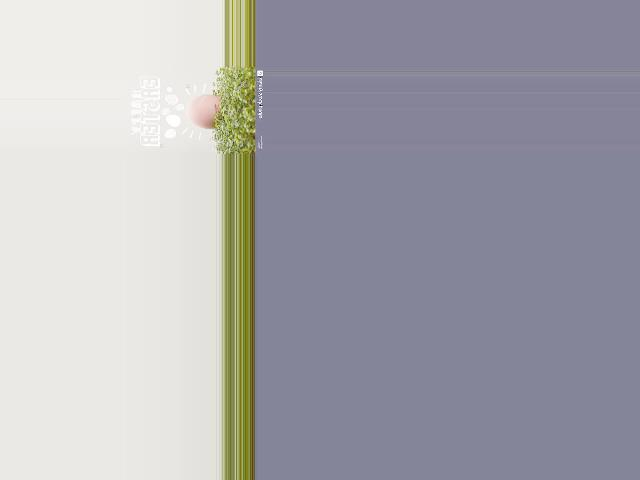egg: (186, 95, 220, 130)
